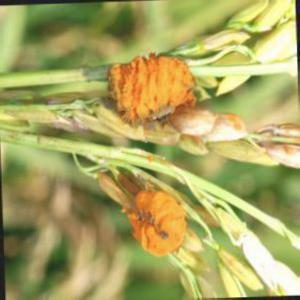Leaf_Scald: (116, 58, 204, 132), (129, 192, 181, 254), (212, 109, 260, 147)
